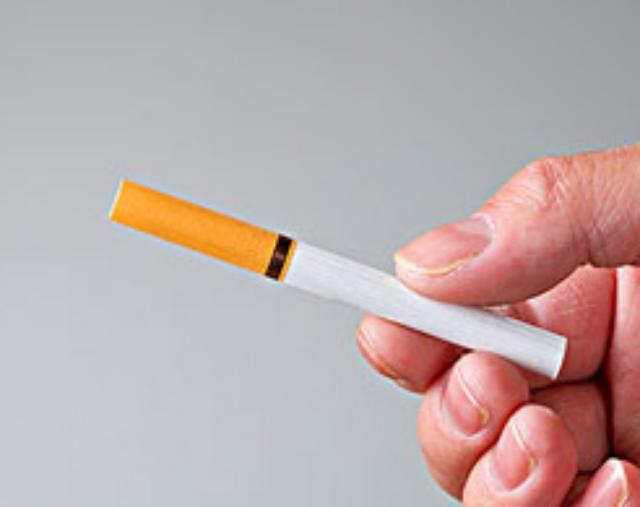Smoking: (101, 172, 574, 382)
